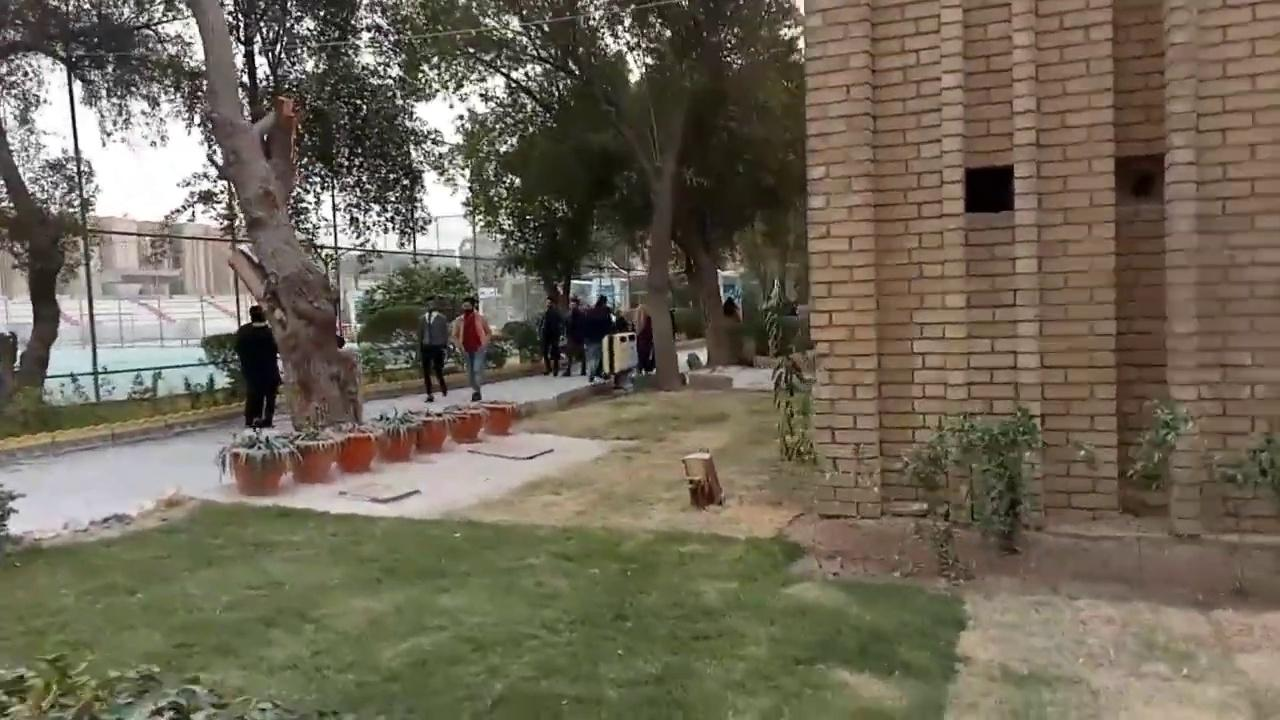person: (234, 304, 283, 428), (451, 297, 491, 401), (415, 297, 449, 402), (563, 293, 593, 376), (590, 293, 620, 373), (538, 293, 566, 376), (723, 295, 741, 322)
tree: (0, 0, 441, 432), (409, 0, 807, 390), (168, 0, 359, 430), (0, 0, 188, 395), (0, 118, 101, 389), (897, 403, 1046, 582), (757, 275, 817, 464), (353, 260, 476, 347)
